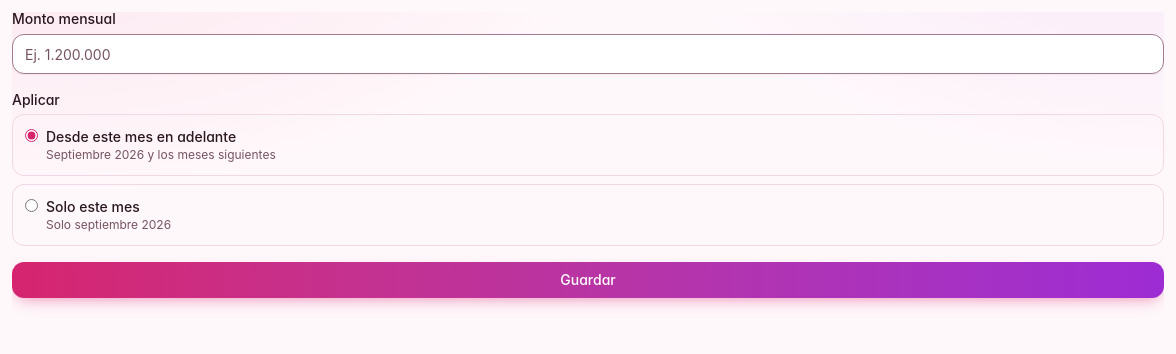
it: BudgetForm — monto › el campo vacío es un error y no envía nada
Click the button "Guardar".
click(588, 280)  # box [12,262,1164,298]
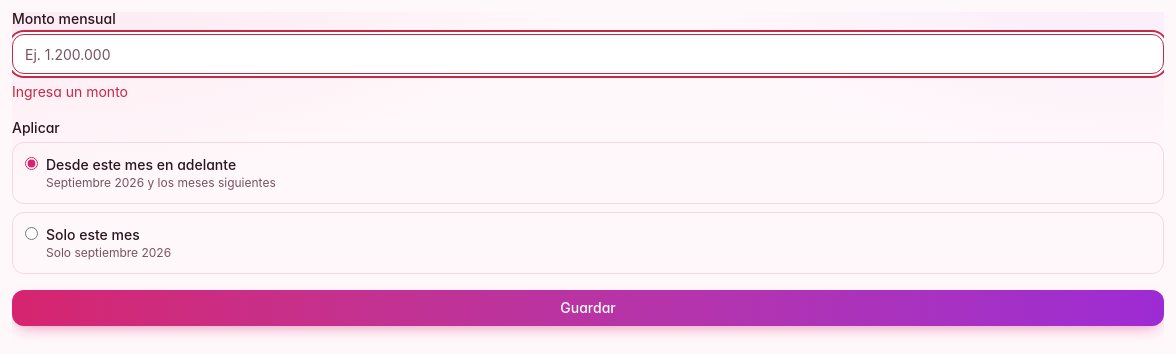
Expected: the text "Ingresa un monto" is shown, [12,83,128,100]
